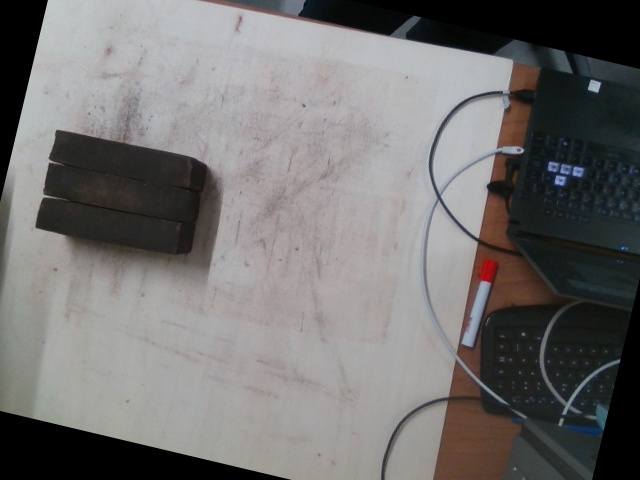brick-side: (52, 132, 191, 188), (48, 165, 187, 221), (39, 198, 177, 254)
